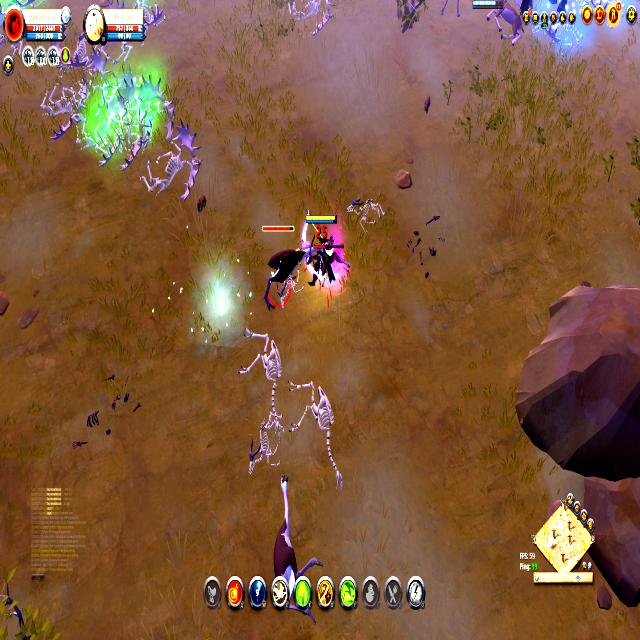mob: (267, 467, 317, 583), (488, 0, 523, 46)
ore: (258, 220, 309, 312), (306, 235, 350, 278)
red: (302, 212, 338, 289), (470, 0, 497, 11)
